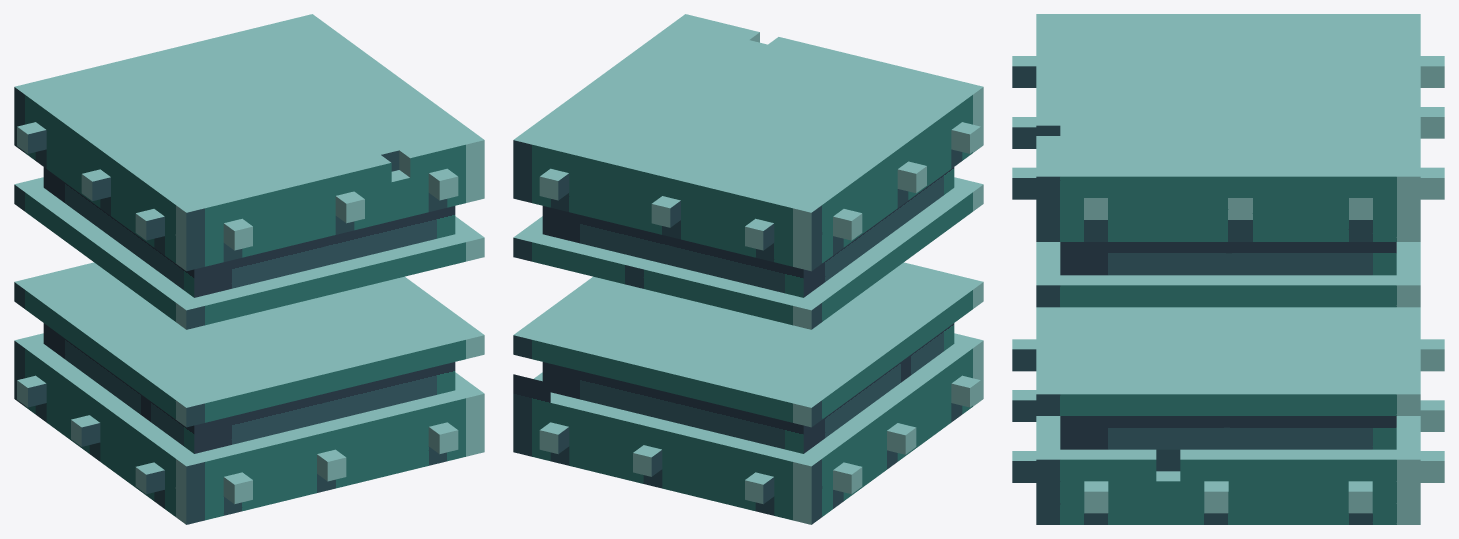
File: pivot_base_ind_caveao.fezao.glb
The picture shows the model from 3 angles, left to right: view 1: azimuth 30°, elevation 25°; view 2: azimuth 150°, elevation 25°; view 3: azimuth 270°, elevation 25°; orthographic projection. The views are drawn at different scales.
Parts seen in each view (by area): view 1: PIVOT_BASE_IND_CAVEAO; view 2: PIVOT_BASE_IND_CAVEAO; view 3: PIVOT_BASE_IND_CAVEAO.
Part boxes in pixels (left/top/right/bottom): PIVOT_BASE_IND_CAVEAO: left=14, top=14, right=484, bottom=524; PIVOT_BASE_IND_CAVEAO: left=513, top=14, right=983, bottom=524; PIVOT_BASE_IND_CAVEAO: left=1012, top=14, right=1444, bottom=524.
Bounding box in the file's own units: 1.12 × 1 × 1.12.
Materials: 1 (1 with a texture image).
